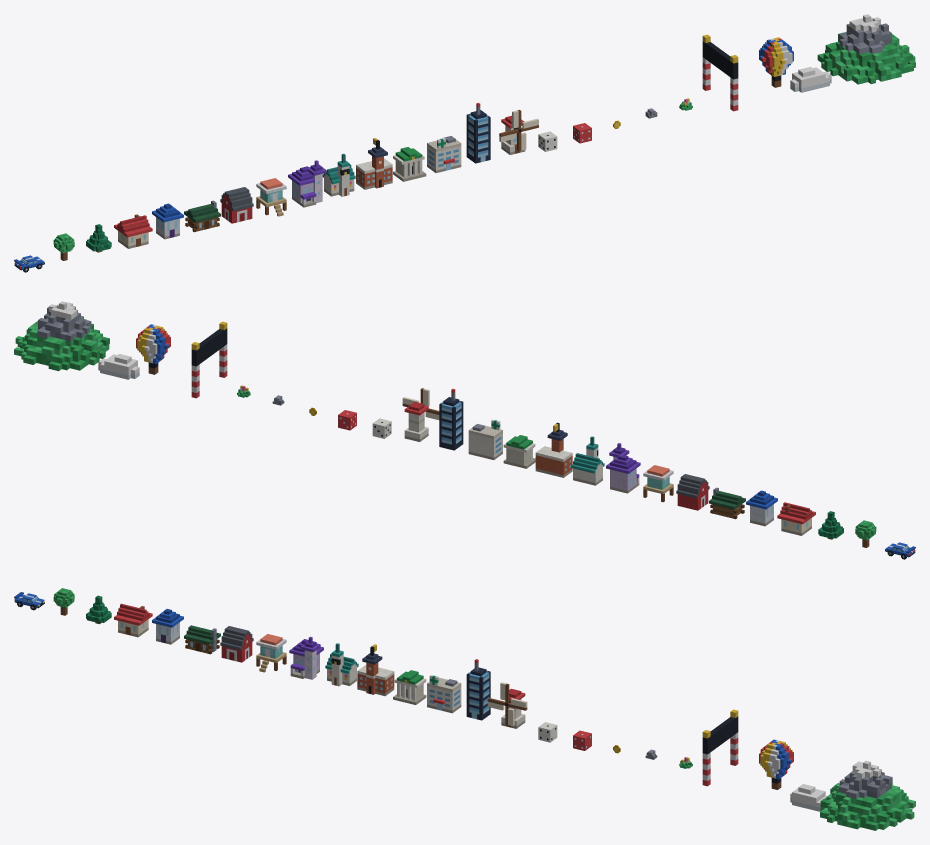
The model's file is world.glb.
The picture shows the model from 3 angles, top to bottom: view 1: azimuth 30°, elevation 25°; view 2: azimuth 150°, elevation 25°; view 3: azimuth 330°, elevation 25°; orthographic projection.
Visible parts, largest first — view 1: mountain, arch, office_tower, manor, college, balloon, hospital, barn, chapel, house_a, bank, beach_house (+4 smaller); view 2: mountain, arch, college, office_tower, hospital, manor, balloon, chapel, barn, house_a, bank, cloud (+4 smaller); view 3: mountain, arch, office_tower, college, balloon, hospital, manor, barn, chapel, house_a, bank, beach_house (+4 smaller).
Boxes of the visible parts, bbox=[...] form: mountain: bbox=[817, 14, 915, 84]; arch: bbox=[702, 34, 738, 111]; office_tower: bbox=[466, 102, 490, 163]; manor: bbox=[288, 160, 326, 207]; college: bbox=[356, 138, 392, 189]; balloon: bbox=[759, 37, 793, 87]; hospital: bbox=[427, 136, 461, 172]; barn: bbox=[220, 187, 253, 223]; chapel: bbox=[322, 153, 355, 196]; house_a: bbox=[114, 214, 152, 248]; bank: bbox=[393, 147, 426, 181]; beach_house: bbox=[256, 178, 286, 216]; mountain: bbox=[14, 301, 109, 371]; arch: bbox=[191, 321, 227, 398]; college: bbox=[535, 422, 572, 477]; office_tower: bbox=[439, 388, 463, 450]; hospital: bbox=[468, 419, 502, 459]; manor: bbox=[606, 443, 640, 493]; balloon: bbox=[136, 324, 170, 374]; chapel: bbox=[571, 436, 604, 485]; barn: bbox=[676, 474, 709, 510]; house_a: bbox=[777, 502, 815, 535]; bank: bbox=[503, 435, 535, 468]; cloud: bbox=[98, 354, 139, 379]; mountain: bbox=[820, 761, 915, 830]; arch: bbox=[702, 709, 738, 786]; office_tower: bbox=[466, 659, 490, 720]; college: bbox=[357, 644, 394, 696]; balloon: bbox=[759, 739, 793, 789]; hospital: bbox=[427, 675, 461, 713]; manor: bbox=[289, 636, 323, 679]; barn: bbox=[220, 626, 253, 662]; chapel: bbox=[325, 643, 358, 686]; house_a: bbox=[114, 603, 152, 637]; bank: bbox=[393, 670, 426, 704]; beach_house: bbox=[256, 634, 286, 672].
Bounding box in the file's own units: 87.85 × 6.05 × 7.5.
